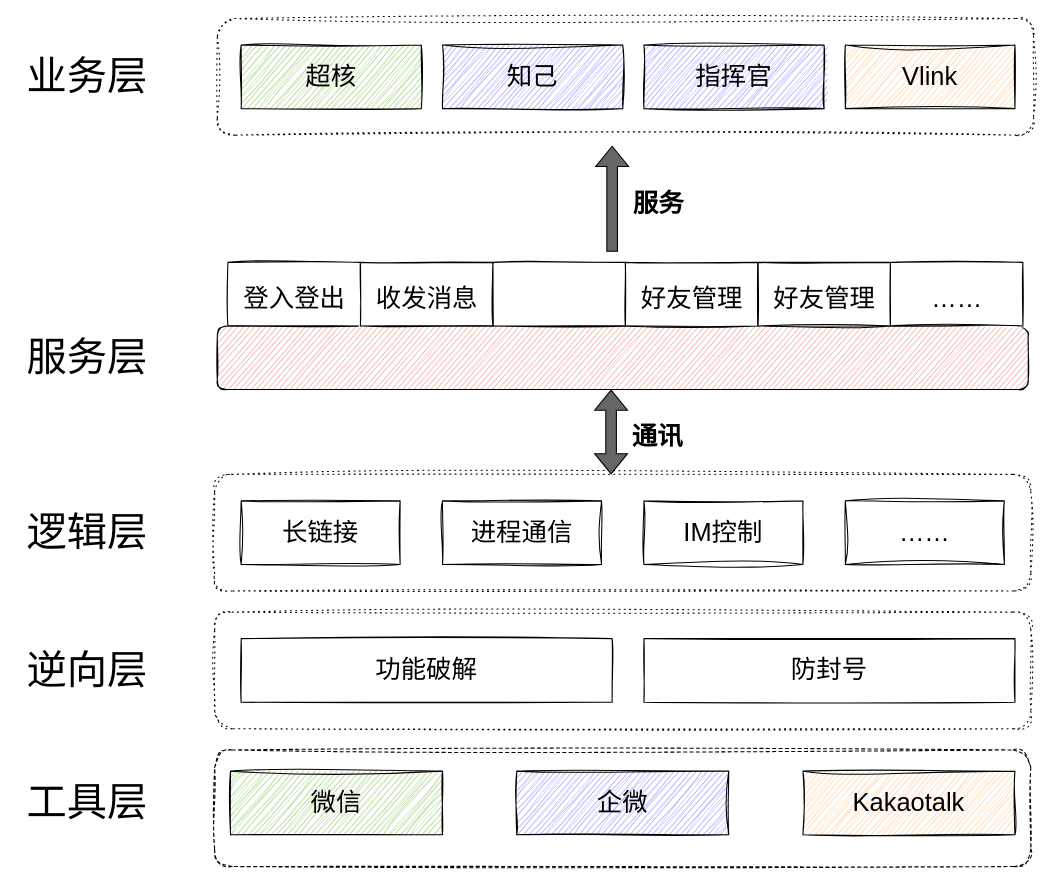
The diagram is 1052 pixels wide and 885 high, and some of its shapes have lost their labels. The centre of each missing label's shape, as x and y in pixels:
"Node服务" belongs at pixel 622 357.
"群组管理" belongs at pixel 558 293.
